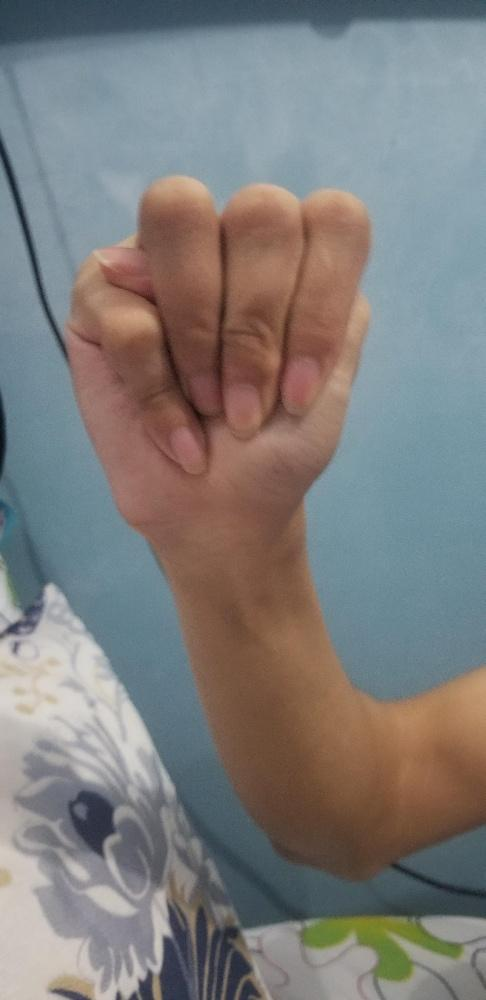m: (59, 172, 375, 538)
